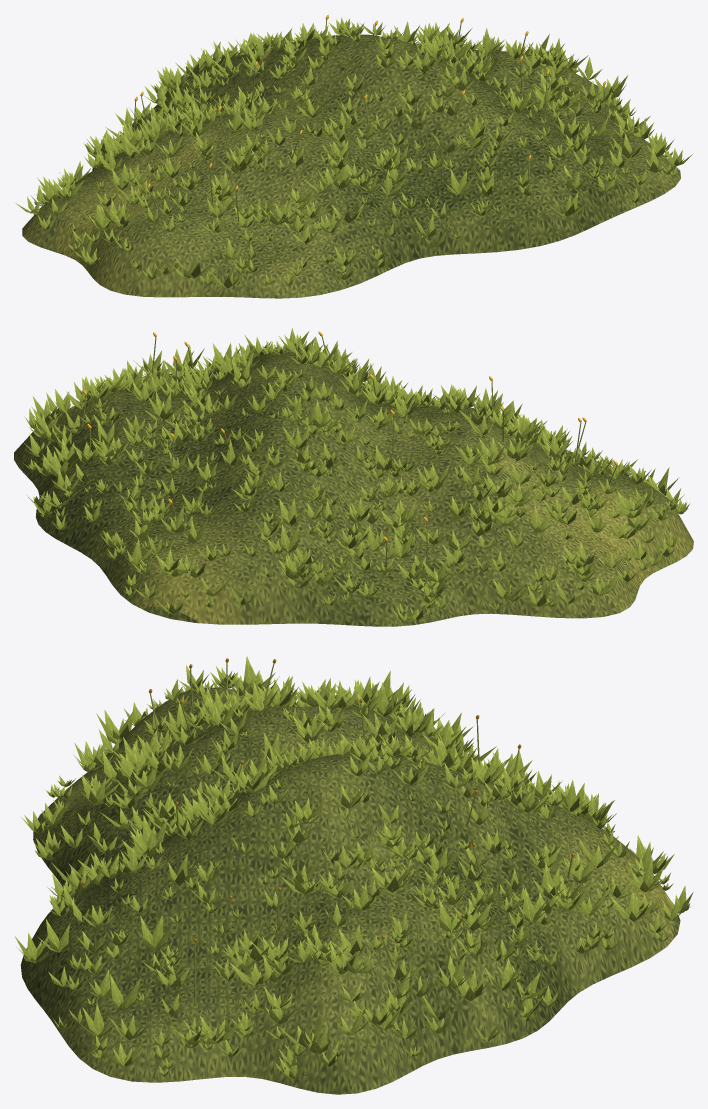
The model's file is SM_Valley_MossPillow.fbx.
3 views of the same model, one above another, from view 1: azimuth 30°, elevation 25°; view 2: azimuth 150°, elevation 25°; view 3: azimuth 270°, elevation 25° (orthographic). The views are drawn at different scales.
Visible parts, largest first — view 1: SM_Valley_MossPillow; view 2: SM_Valley_MossPillow; view 3: SM_Valley_MossPillow.
Part boxes in pixels (x1,y1,x2,y2): SM_Valley_MossPillow: (14,14,692,298); SM_Valley_MossPillow: (14,328,693,626); SM_Valley_MossPillow: (14,655,693,1094).
Size of the model in its own units: 0.8815 by 0.6781 by 0.2036.
Materials: 2 (2 with a texture image).
